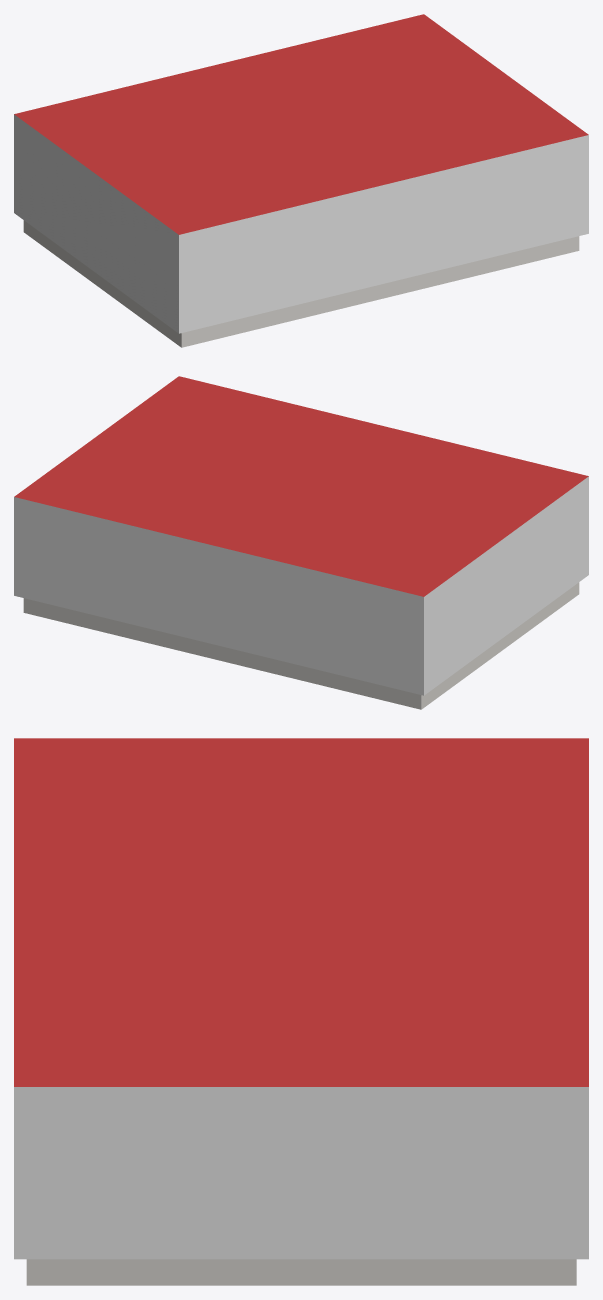
The model's file is shade_off.glb.
The picture shows the model from 3 angles, top to bottom: view 1: azimuth 30°, elevation 25°; view 2: azimuth 150°, elevation 25°; view 3: azimuth 270°, elevation 25°; orthographic projection. The views are drawn at different scales.
Visible parts, largest first — view 1: lid_top, lid_front, lid_left, base_front, base_left; view 2: lid_top, lid_back, lid_left, base_back, base_left; view 3: lid_top, lid_right, base_right.
Boxes of the visible parts, x1,y1,x2,y2 form: lid_top: (14,14,588,234); lid_front: (179,135,588,333); lid_left: (14,114,178,333); base_front: (181,236,579,347); base_left: (23,220,181,347); lid_top: (14,376,588,596); lid_back: (14,497,423,695); lid_left: (424,476,588,695); base_back: (23,598,421,709); base_left: (421,582,579,709); lid_top: (14,738,588,1086); lid_right: (14,1087,588,1259); base_right: (26,1259,576,1285).
Size of the model in its own units: 0.165 by 0.045 by 0.115.
14 materials, 1 textured.
